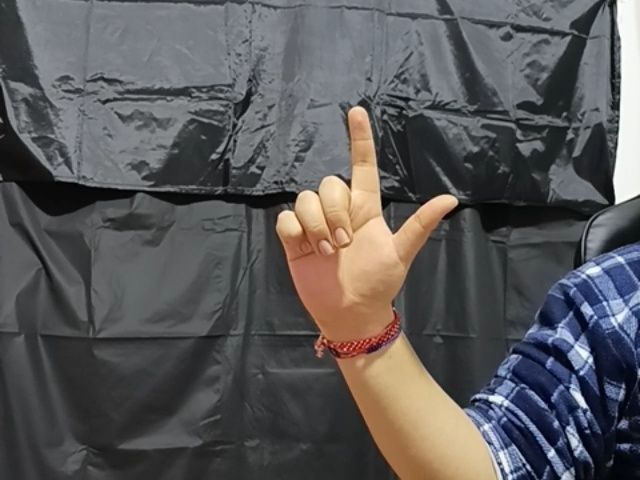L: (273, 106, 459, 317)
